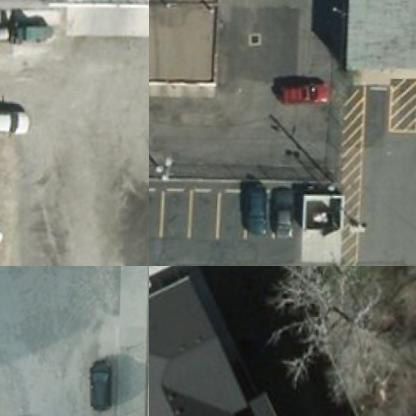car: (275, 71, 335, 106), (88, 352, 116, 408), (271, 183, 300, 237), (244, 178, 270, 236), (0, 99, 35, 136)
